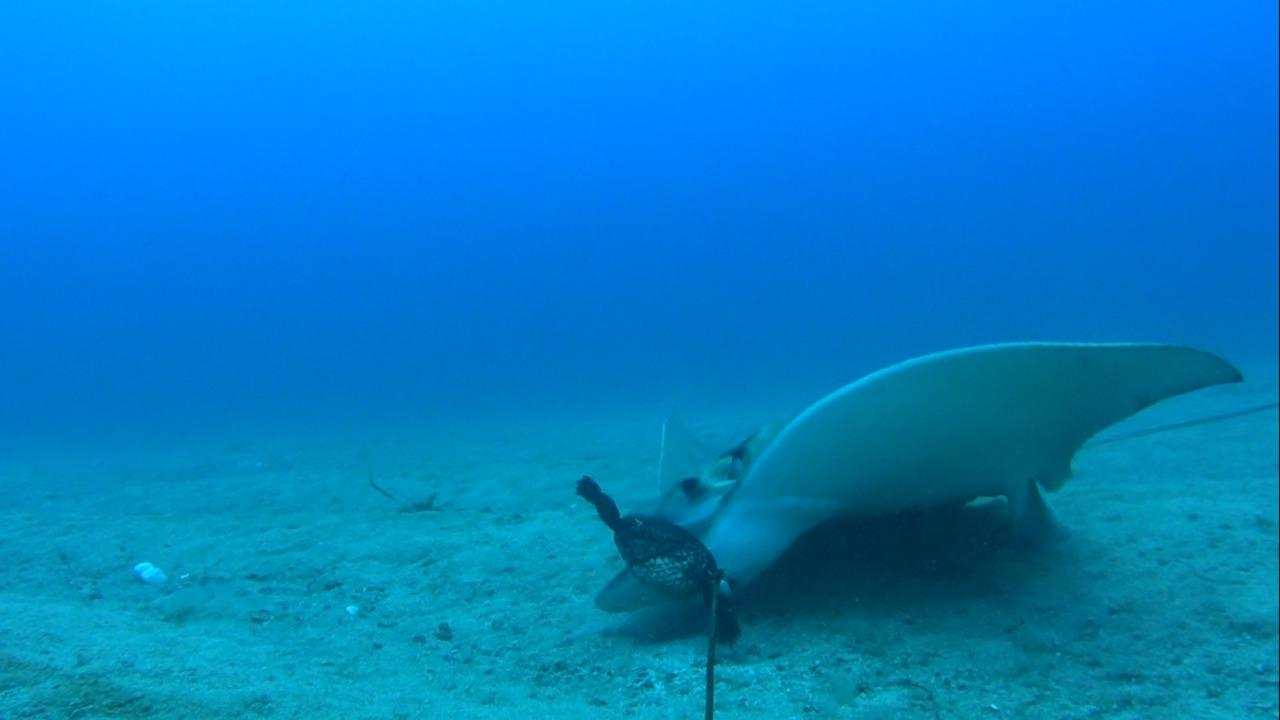myliobatis: (589, 331, 1279, 619)
